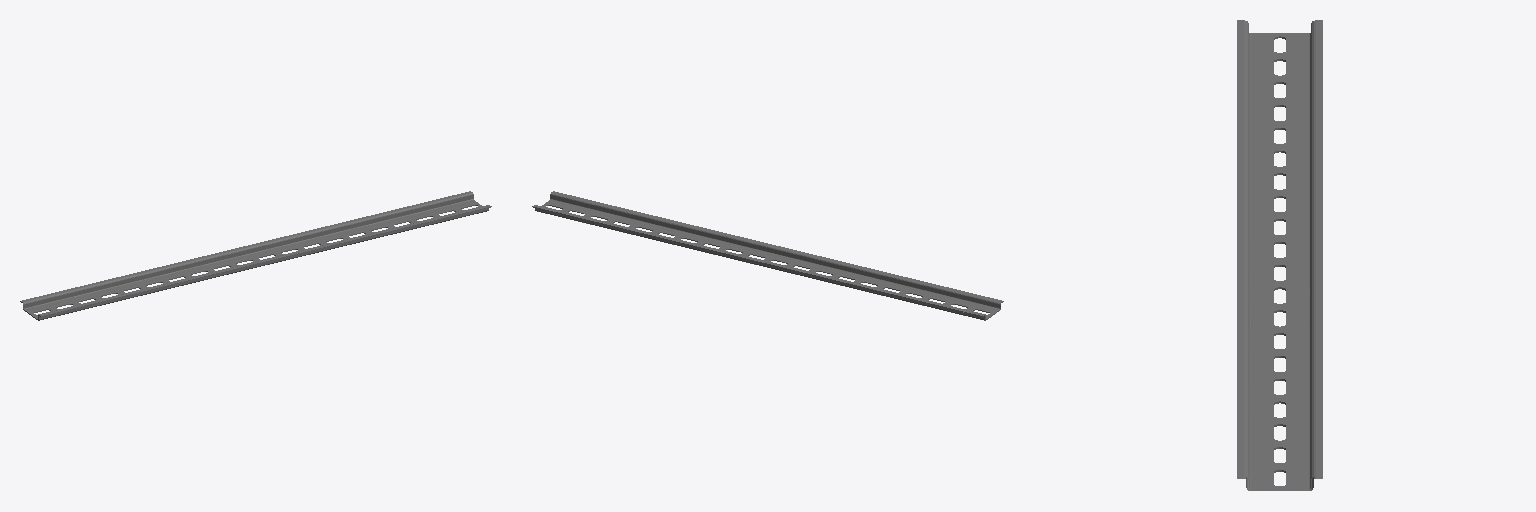
robot.urdf — rail.urdf:
<?xml version="0.0" ?>
<robot name="rail.urdf">
  <link name="baseLink">
    <contact>
      <lateral_friction value=".5"/>
    </contact>
    <inertial>
      <origin rpy="0 0 0" xyz="0 0 0"/>
       <mass value=".05"/>
       <inertia ixx="1" ixy="0" ixz="0" iyy="1" iyz="0" izz="1"/>
    </inertial>
    <visual>
      <origin rpy="0 0 0" xyz="0 0 0"/>
      <geometry>
		<mesh filename="Rail.obj" scale="1 1.15 1"/>
      </geometry>
       <material name="gray">
        <color rgba="0.5 0.5 0.5 1"/>
      </material>
    </visual>
    <collision>
      <origin rpy="0 0 0" xyz="0 0 0"/>
      <geometry>
	 	<mesh filename="Rail_Coll.obj" scale="1 1.15 1"/>
      </geometry>
    </collision>
  </link>
</robot>

--- What the picture shows (computed from the rendered views, not written in the file) ---
3 views of the same robot in one strip: view 1: azimuth 30°, elevation 25°; view 2: azimuth 150°, elevation 25°; view 3: azimuth 270°, elevation 25° (orthographic).
Model rail.urdf with 1 links and 0 joints (none), rooted at baseLink, posed every joint at zero.
Links seen in each view (by area): view 1: baseLink; view 2: baseLink; view 3: baseLink.
Boxes of the visible links, x1,y1,x2,y2 form: baseLink: [20, 191, 491, 320]; baseLink: [532, 191, 1003, 320]; baseLink: [1237, 20, 1322, 490].
Size in the robot's own frame: 0.5001 by 0.0402 by 0.0075 metres.
1 mesh visuals loaded from 1 distinct referenced files (1 OBJ).